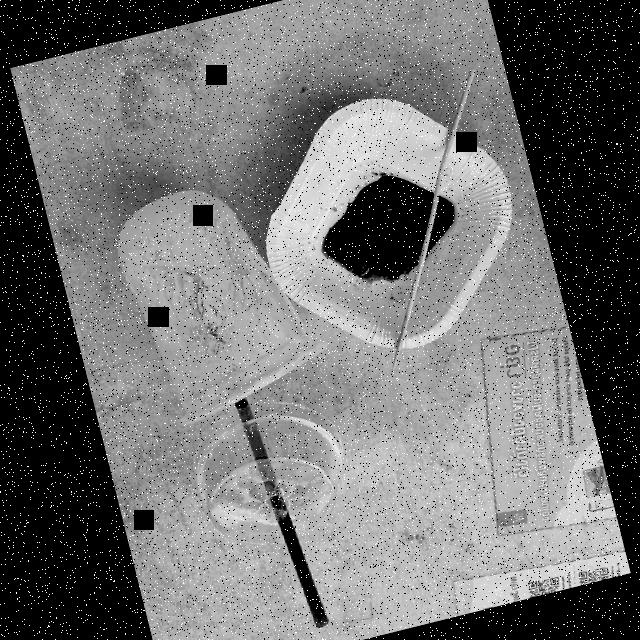cardboard_bowl: (248, 62, 532, 368)
plastic_cup: (88, 166, 335, 434)
plastic_cup_lid: (164, 387, 361, 555)
stick: (387, 60, 486, 363)
straw: (220, 382, 340, 636)
